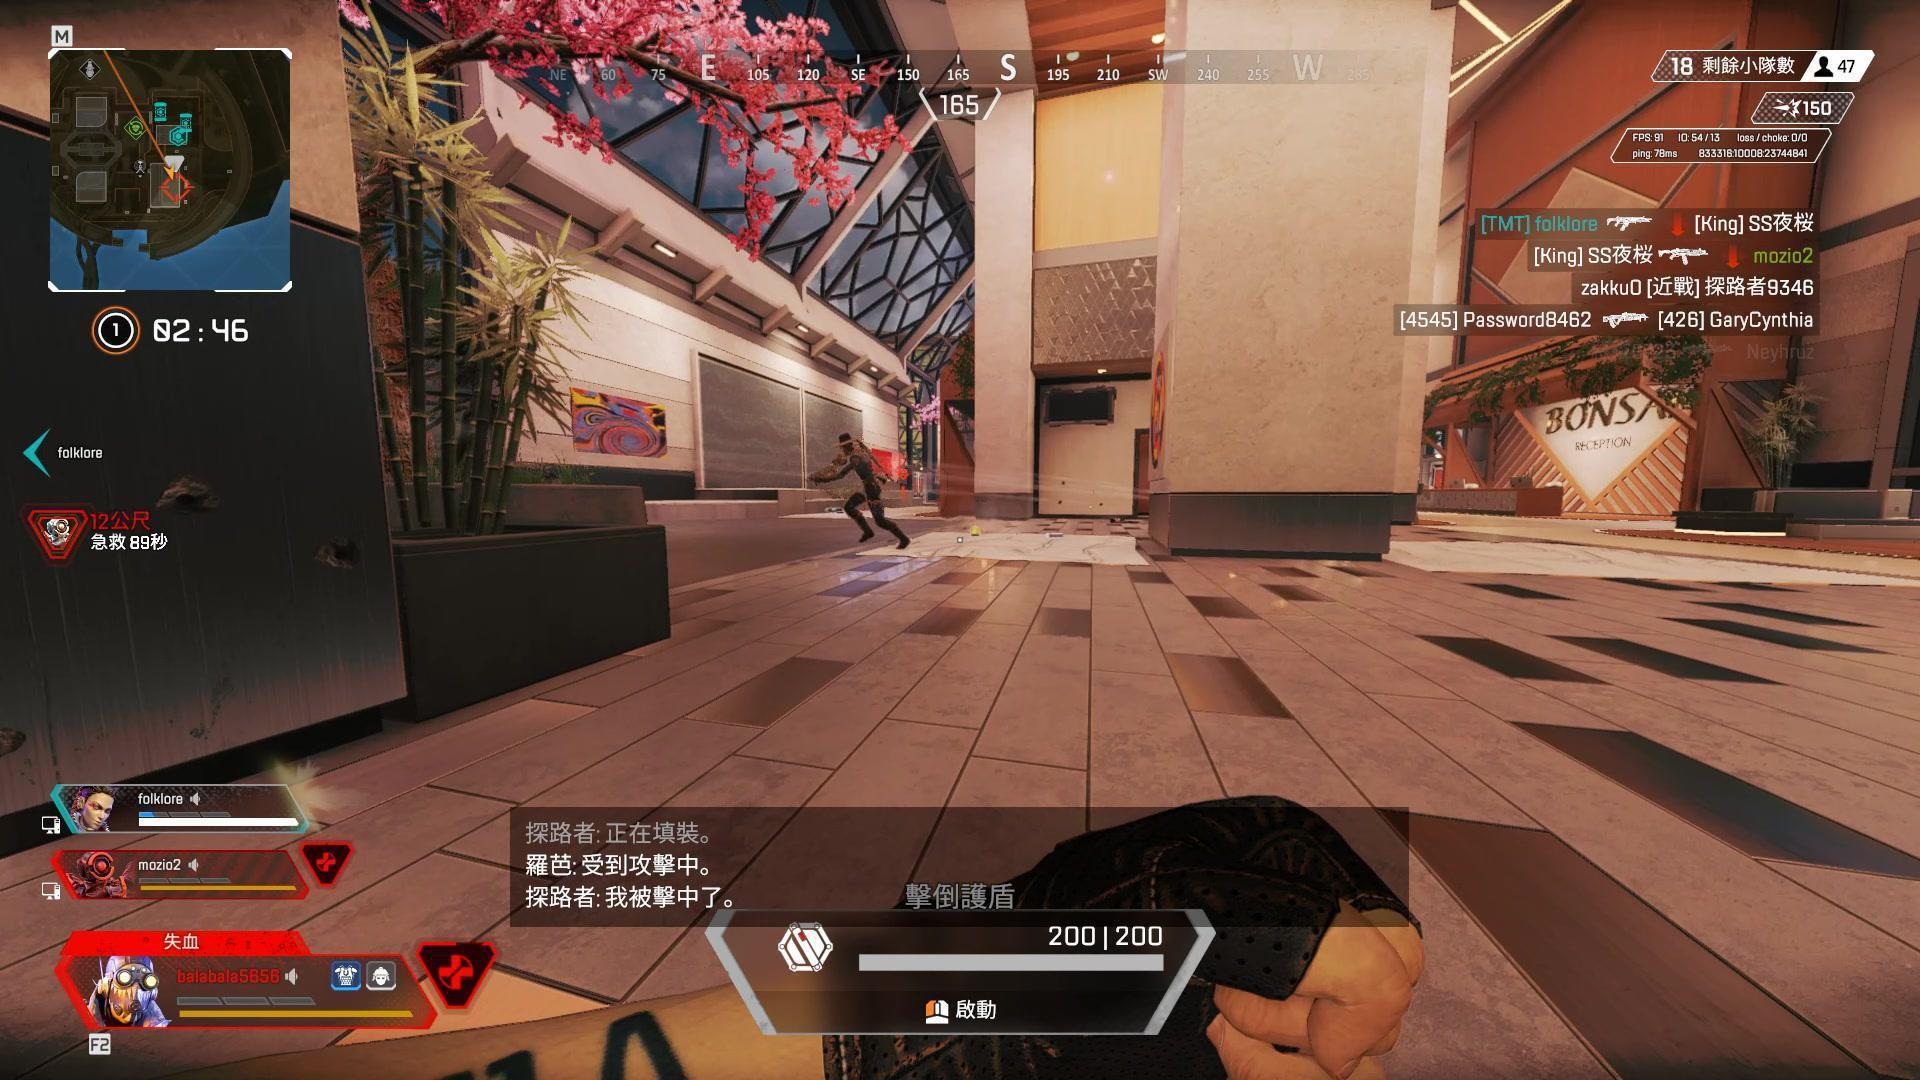avatar: (834, 429, 888, 549)
